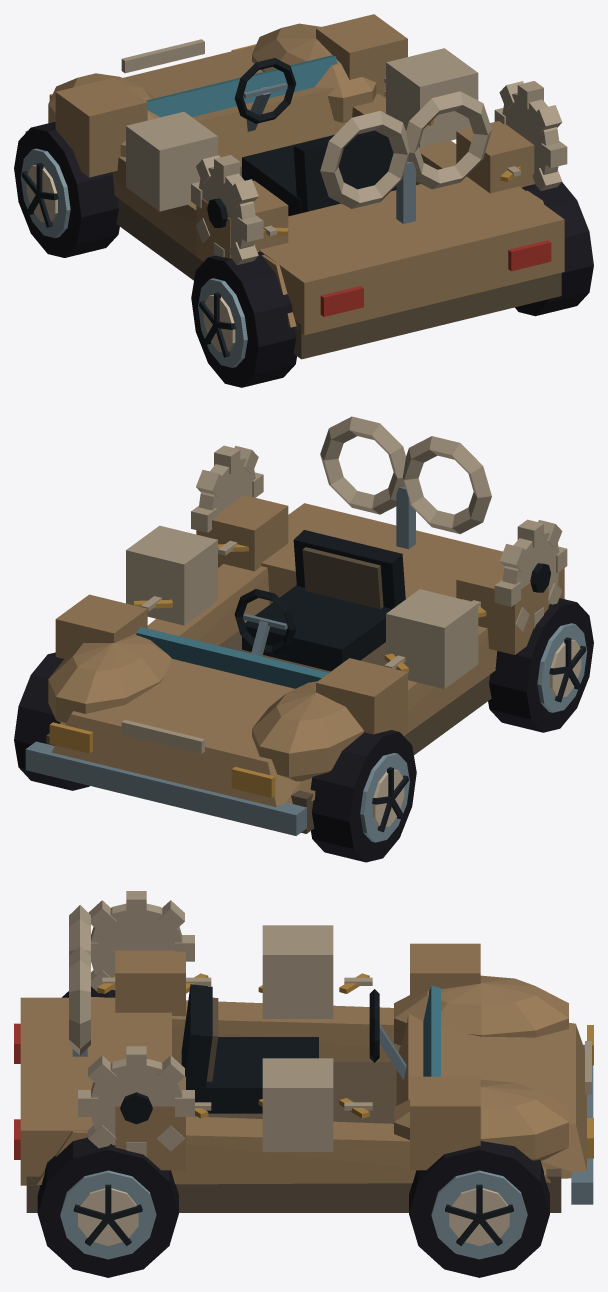
The model's file is kart.glb.
3 views of the same model, one above another, from view 1: azimuth 30°, elevation 25°; view 2: azimuth 150°, elevation 25°; view 3: azimuth 270°, elevation 25° (orthographic). The views are drawn at different scales.
Visible parts, largest first — view 1: identity-toy-car-toy-rounded-body-and-wind-up-key, identity-toy-car-motif-blocks, wheel-rear-left, wheel-front-left, identity-toy-car-motif-gears, identity-toy-car-driver-cockpit, wheel-rear-right, identity-toy-car-motif-suture; view 2: identity-toy-car-toy-rounded-body-and-wind-up-key, identity-toy-car-motif-blocks, identity-toy-car-driver-cockpit, wheel-front-left, wheel-rear-left, identity-toy-car-motif-gears, wheel-front-right, identity-toy-car-motif-suture; view 3: identity-toy-car-toy-rounded-body-and-wind-up-key, identity-toy-car-motif-blocks, wheel-rear-right, wheel-front-right, identity-toy-car-motif-gears, identity-toy-car-driver-cockpit, identity-toy-car-motif-suture.
Part boxes in pixels (x1,y1,x2,y2): identity-toy-car-toy-rounded-body-and-wind-up-key: [25, 23, 564, 359]; identity-toy-car-motif-blocks: [55, 14, 535, 261]; wheel-rear-left: [191, 252, 296, 387]; wheel-front-left: [14, 122, 119, 257]; identity-toy-car-motif-gears: [191, 81, 567, 264]; identity-toy-car-driver-cockpit: [234, 58, 396, 215]; wheel-rear-right: [515, 182, 593, 316]; identity-toy-car-motif-suture: [263, 77, 521, 236]; identity-toy-car-toy-rounded-body-and-wind-up-key: [25, 416, 564, 835]; identity-toy-car-motif-blocks: [55, 495, 548, 735]; identity-toy-car-driver-cockpit: [234, 530, 405, 671]; wheel-front-left: [310, 730, 416, 862]; wheel-rear-left: [488, 598, 593, 732]; identity-toy-car-motif-gears: [191, 445, 567, 631]; wheel-front-right: [14, 652, 89, 790]; identity-toy-car-motif-suture: [133, 540, 486, 672]; identity-toy-car-toy-rounded-body-and-wind-up-key: [14, 905, 593, 1212]; identity-toy-car-motif-blocks: [115, 925, 480, 1170]; wheel-rear-right: [37, 1137, 178, 1277]; wheel-front-right: [409, 1141, 549, 1277]; identity-toy-car-motif-gears: [78, 891, 194, 1156]; identity-toy-car-driver-cockpit: [181, 984, 406, 1113]; identity-toy-car-motif-suture: [97, 973, 372, 1118].
Bounding box in the file's own units: 2.13 × 1.42 × 2.88.
